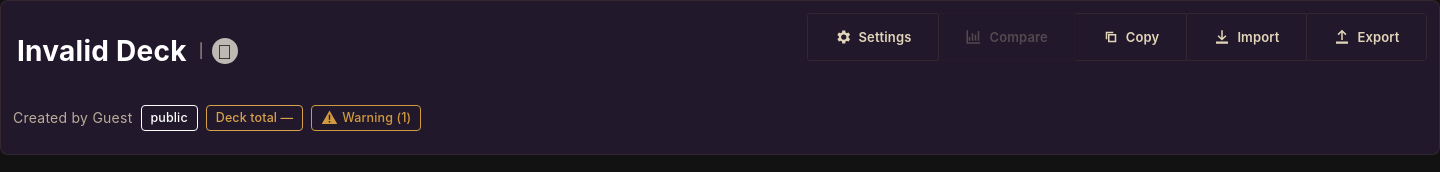
DeckBuilderHeader › edits and saves the deck title inline
Click the button with aria-label "Edit deck title" at (102, 51), box x1=13 y1=32 x2=191 y2=71
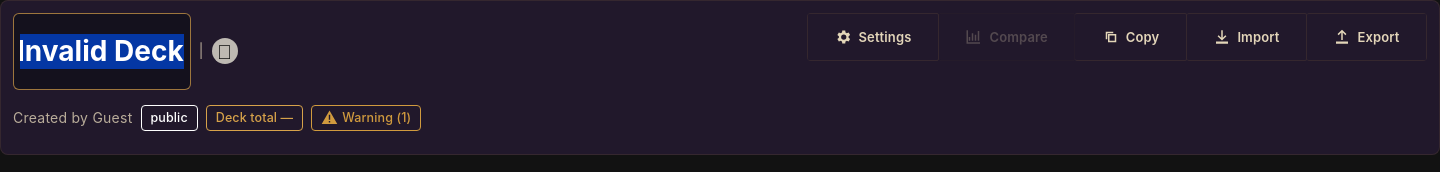
Result: the field named "Deck title" is shown
Replace the text in the field named "Deck title" with "Updated Deck" at (102, 51), box x1=13 y1=13 x2=191 y2=90
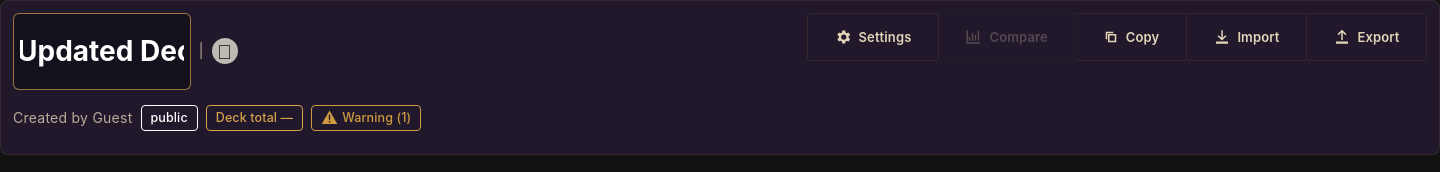
Press Enter in the field named "Deck title", box x1=13 y1=13 x2=191 y2=90
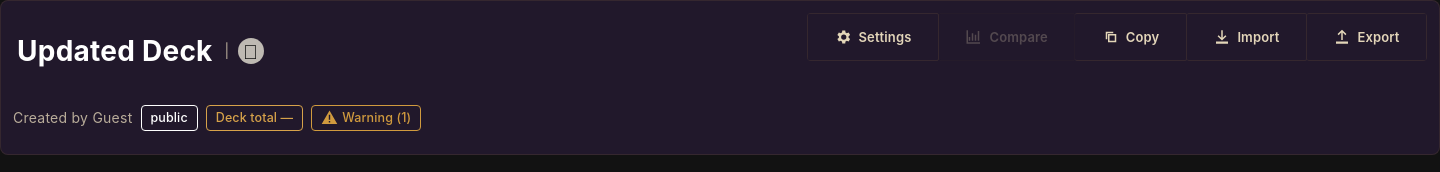
Result: the button with aria-label "Edit deck title" reads "Updated Deck" at x1=13 y1=32 x2=217 y2=71
